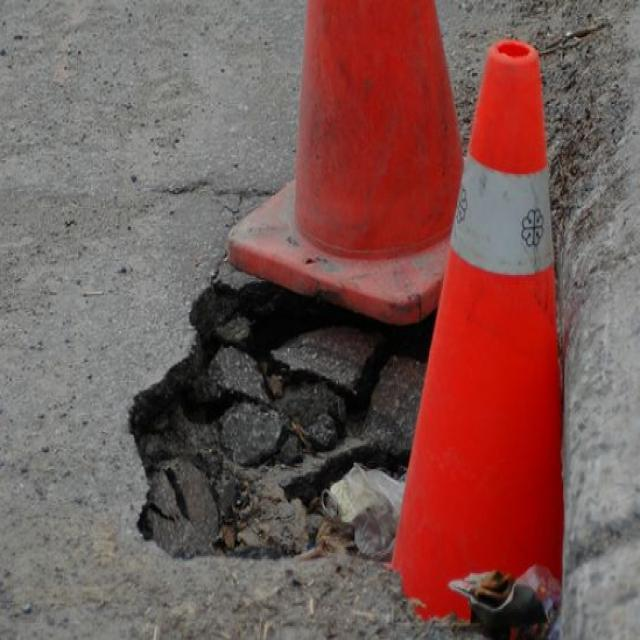pothole: (126, 268, 396, 574)
